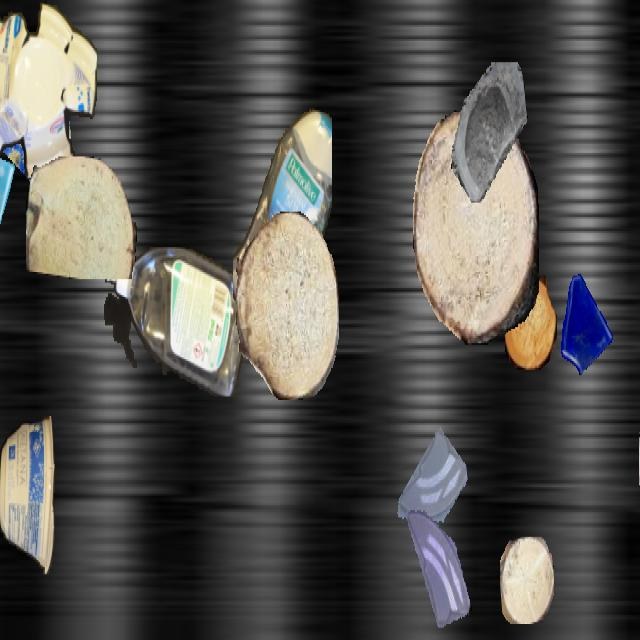glass: (0, 54, 74, 220), (449, 62, 527, 201), (400, 507, 474, 638), (395, 423, 467, 551), (555, 269, 615, 375), (0, 134, 24, 294)
plastic: (233, 102, 331, 340), (104, 247, 250, 397), (0, 2, 96, 180), (0, 416, 55, 572)
wood: (413, 109, 539, 343), (236, 212, 338, 400), (26, 156, 136, 278), (504, 276, 556, 368), (500, 537, 554, 622), (639, 393, 640, 567)
